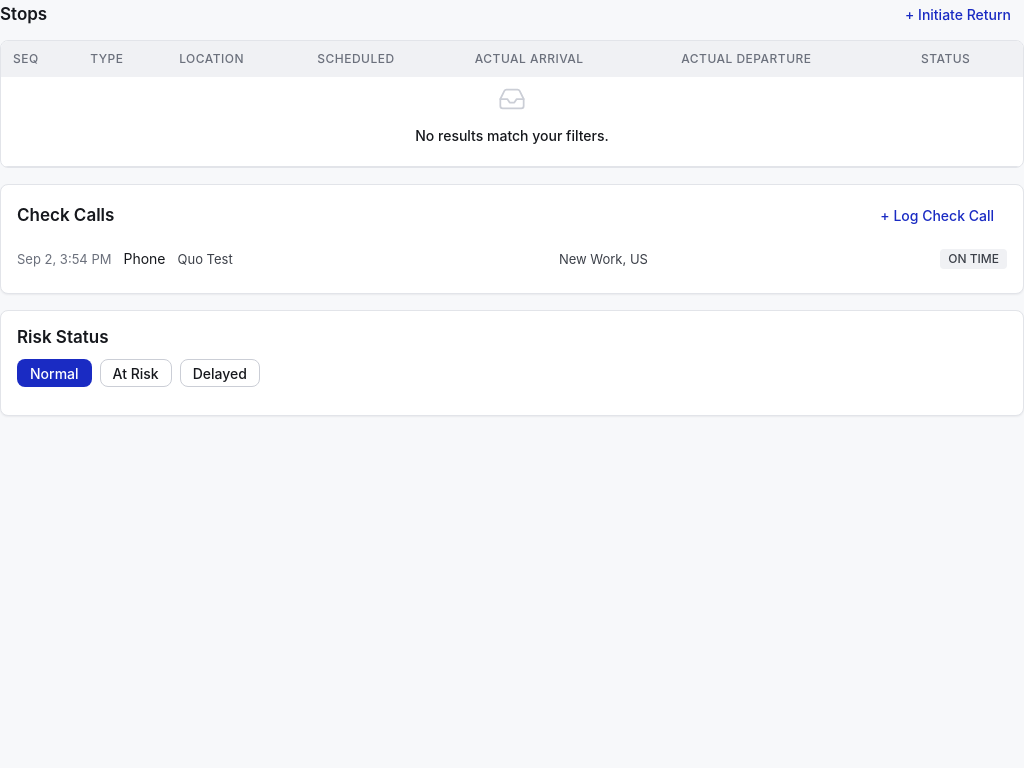
Scenario: StopsTrackingTab — Check Call row click → details drawer › closes the drawer via the close button
Click the text "Quo Test": {"x": 205, "y": 259} [178,251,233,267]
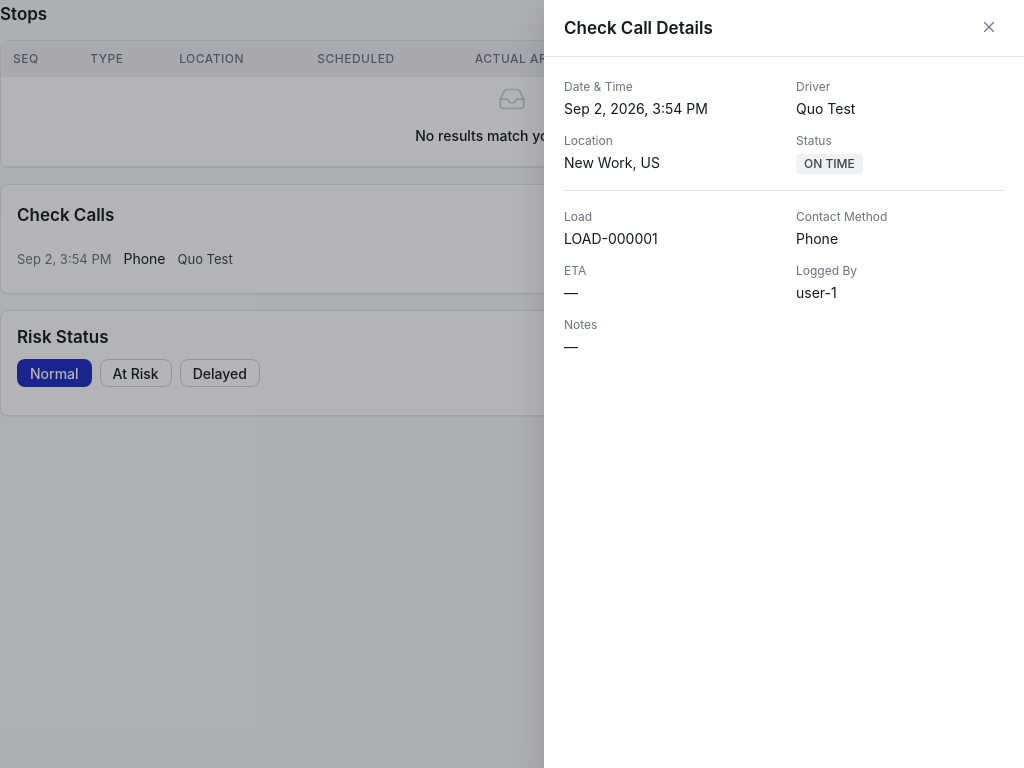
Expected: the dialog is shown, [544,0,1023,767]
Click the button named "Close": {"x": 989, "y": 28} [974,16,1004,40]
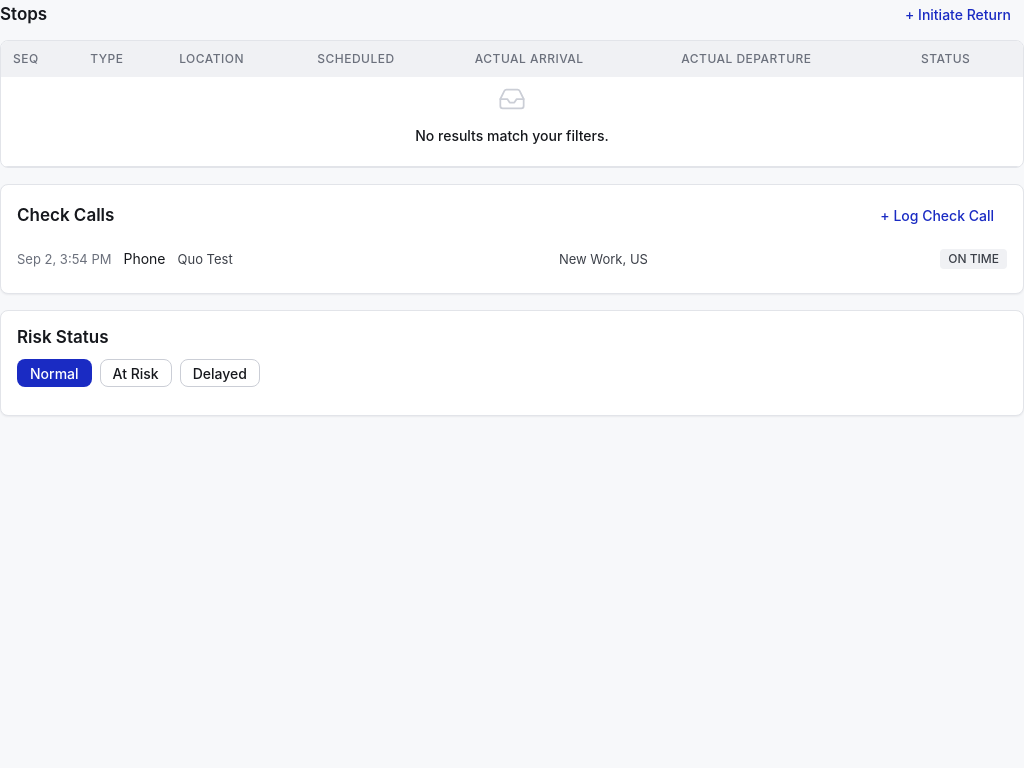
Expected: the dialog is gone
